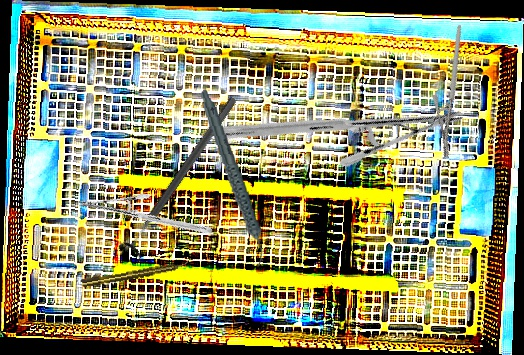Fixation Ring: (115, 90, 247, 265)
Handpiece: (198, 84, 266, 272), (80, 259, 190, 289)
Needle Holder: (211, 10, 466, 240), (77, 165, 213, 269), (404, 24, 502, 161)
